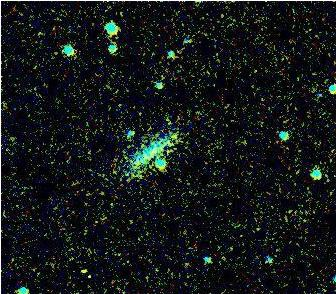star: (71, 255, 101, 285)
